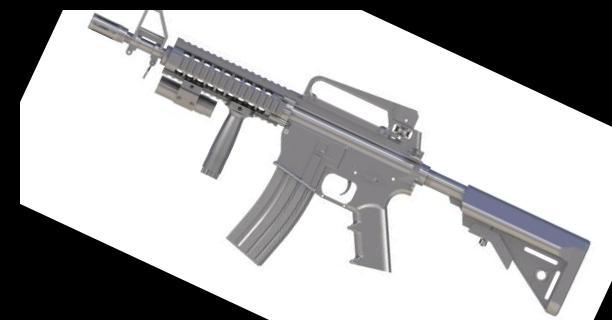larga: (87, 10, 592, 316)
